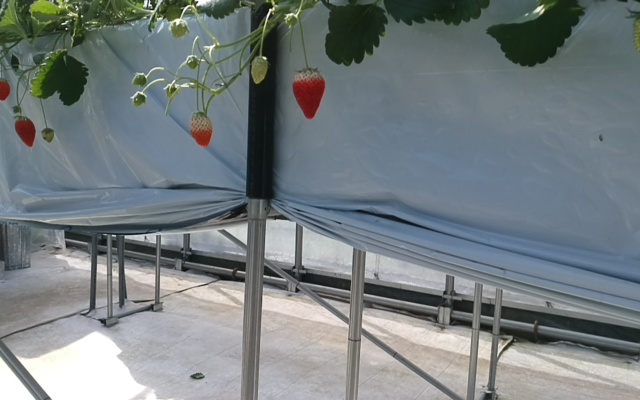GreenStrawberry: (189, 110, 215, 148), (249, 56, 269, 85), (167, 17, 190, 41)
MatureStrawberry: (291, 67, 326, 123), (13, 114, 39, 150), (1, 77, 11, 104)
